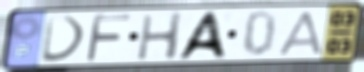0: (242, 9, 280, 59)
A: (172, 10, 230, 61), (276, 10, 325, 57)
D: (39, 14, 89, 64)
F: (83, 12, 134, 64)
H: (135, 10, 186, 62)
